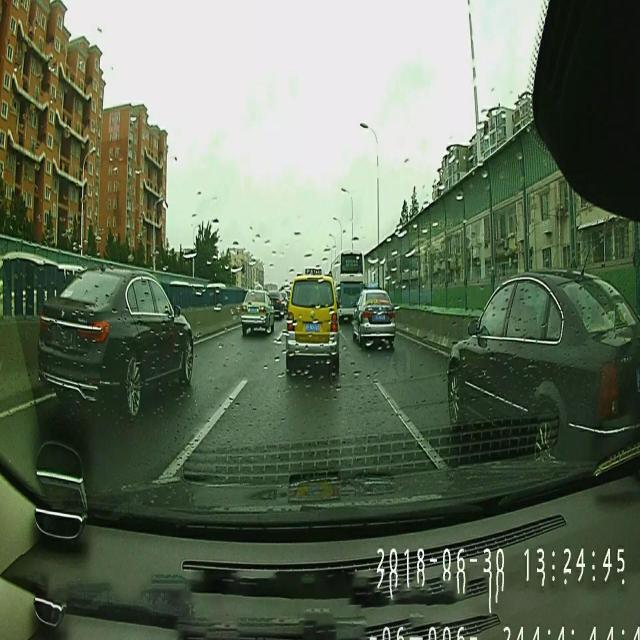car: (448, 270, 638, 460), (36, 264, 195, 417), (286, 268, 339, 376), (352, 288, 396, 346), (240, 285, 275, 331), (268, 290, 283, 318)
